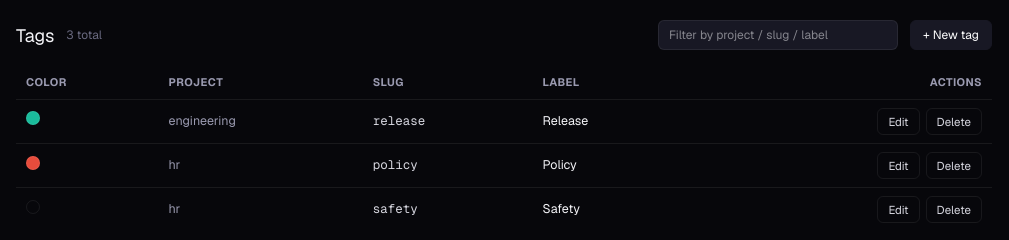
Test case: TagsList › filters rows by free-text input across project/slug/label
Expected: the row with test id "admin-tag-row-1" is shown, [16,99,992,143]
Type "hr" into the field with test id "admin-tags-filter" at [778, 35], box [658,20,898,50]
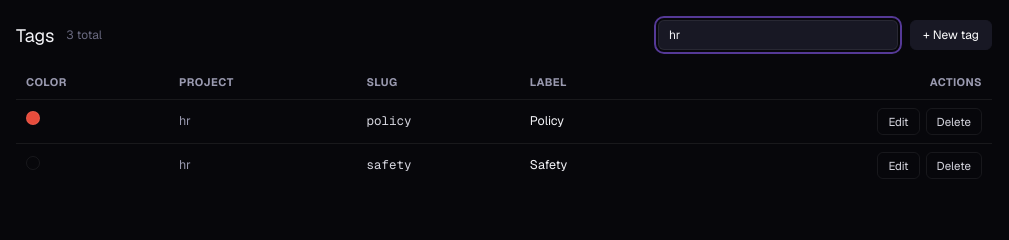
Expected: the row with test id "admin-tag-row-2" is shown, [16,99,992,143]
Now the row with test id "admin-tag-row-1" is gone
